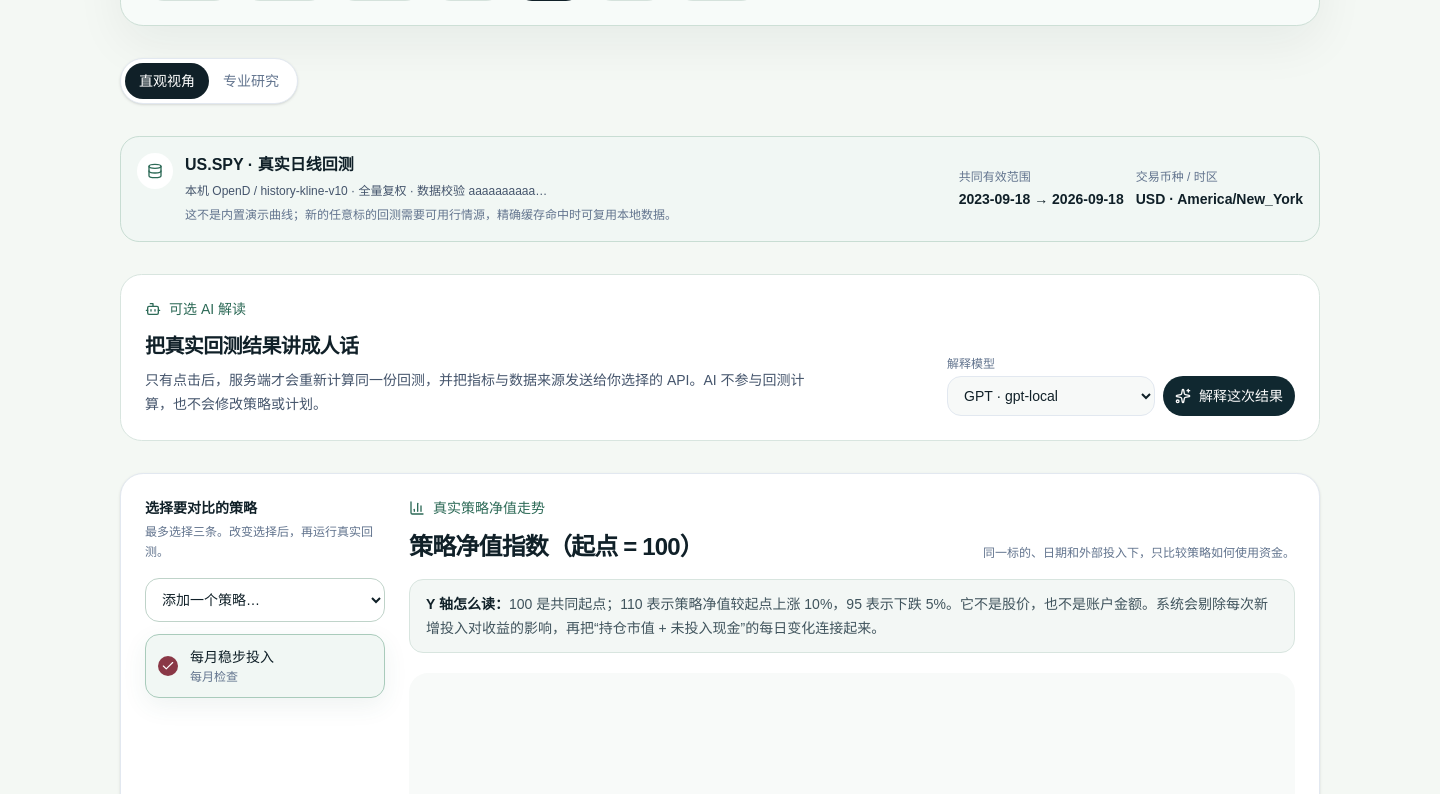
Test case: V2.1 consumer shell › explains a real backtest only after the user requests it
The image size is (1440, 794).
(page scrolled)
Click the button "解释这次结果" at [1229, 396], box [1163,376,1295,416]
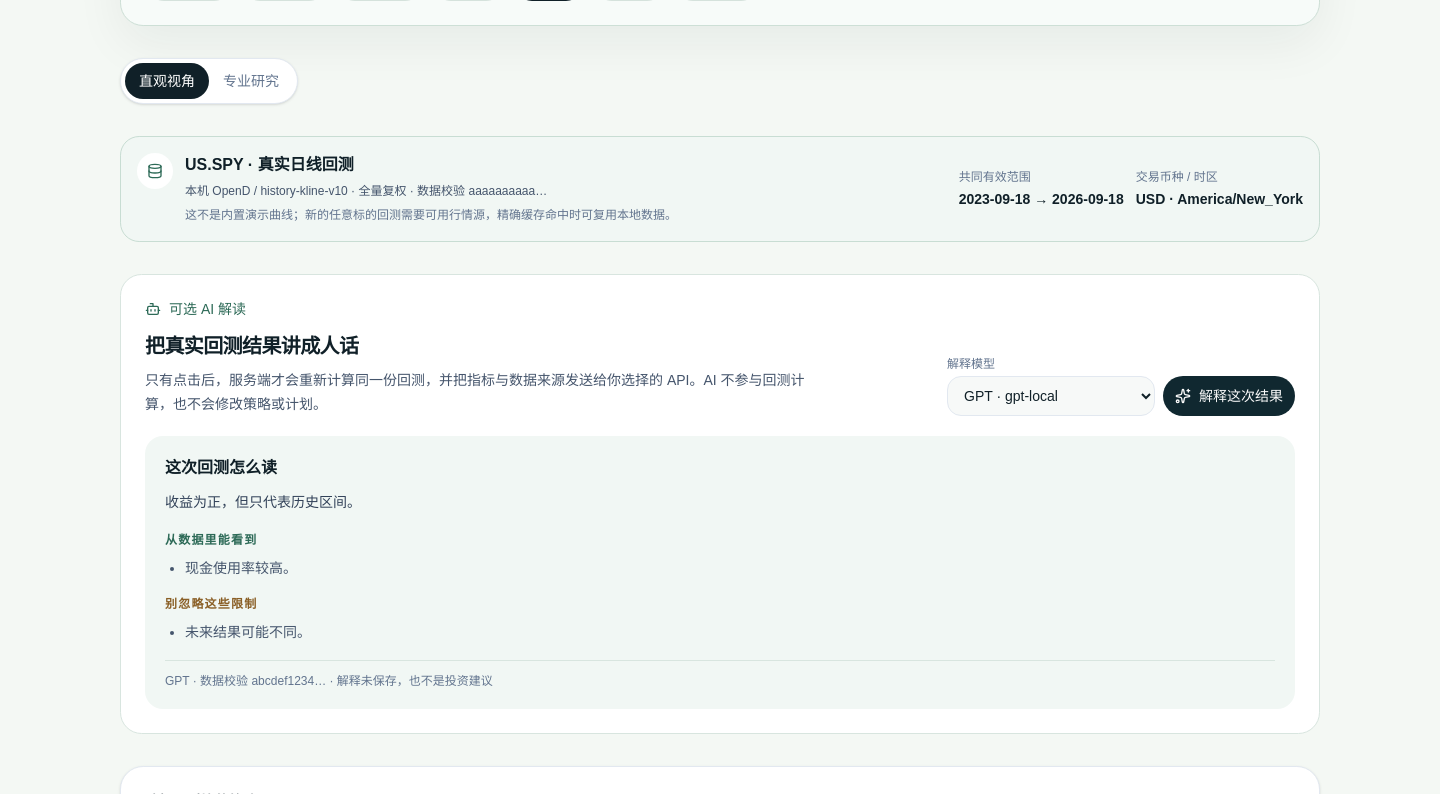
Expected: the heading "这次回测怎么读" is shown, [165,459,277,476]
Expected: the text "收益为正，但只代表历史区间。" is shown, [165,494,361,510]
